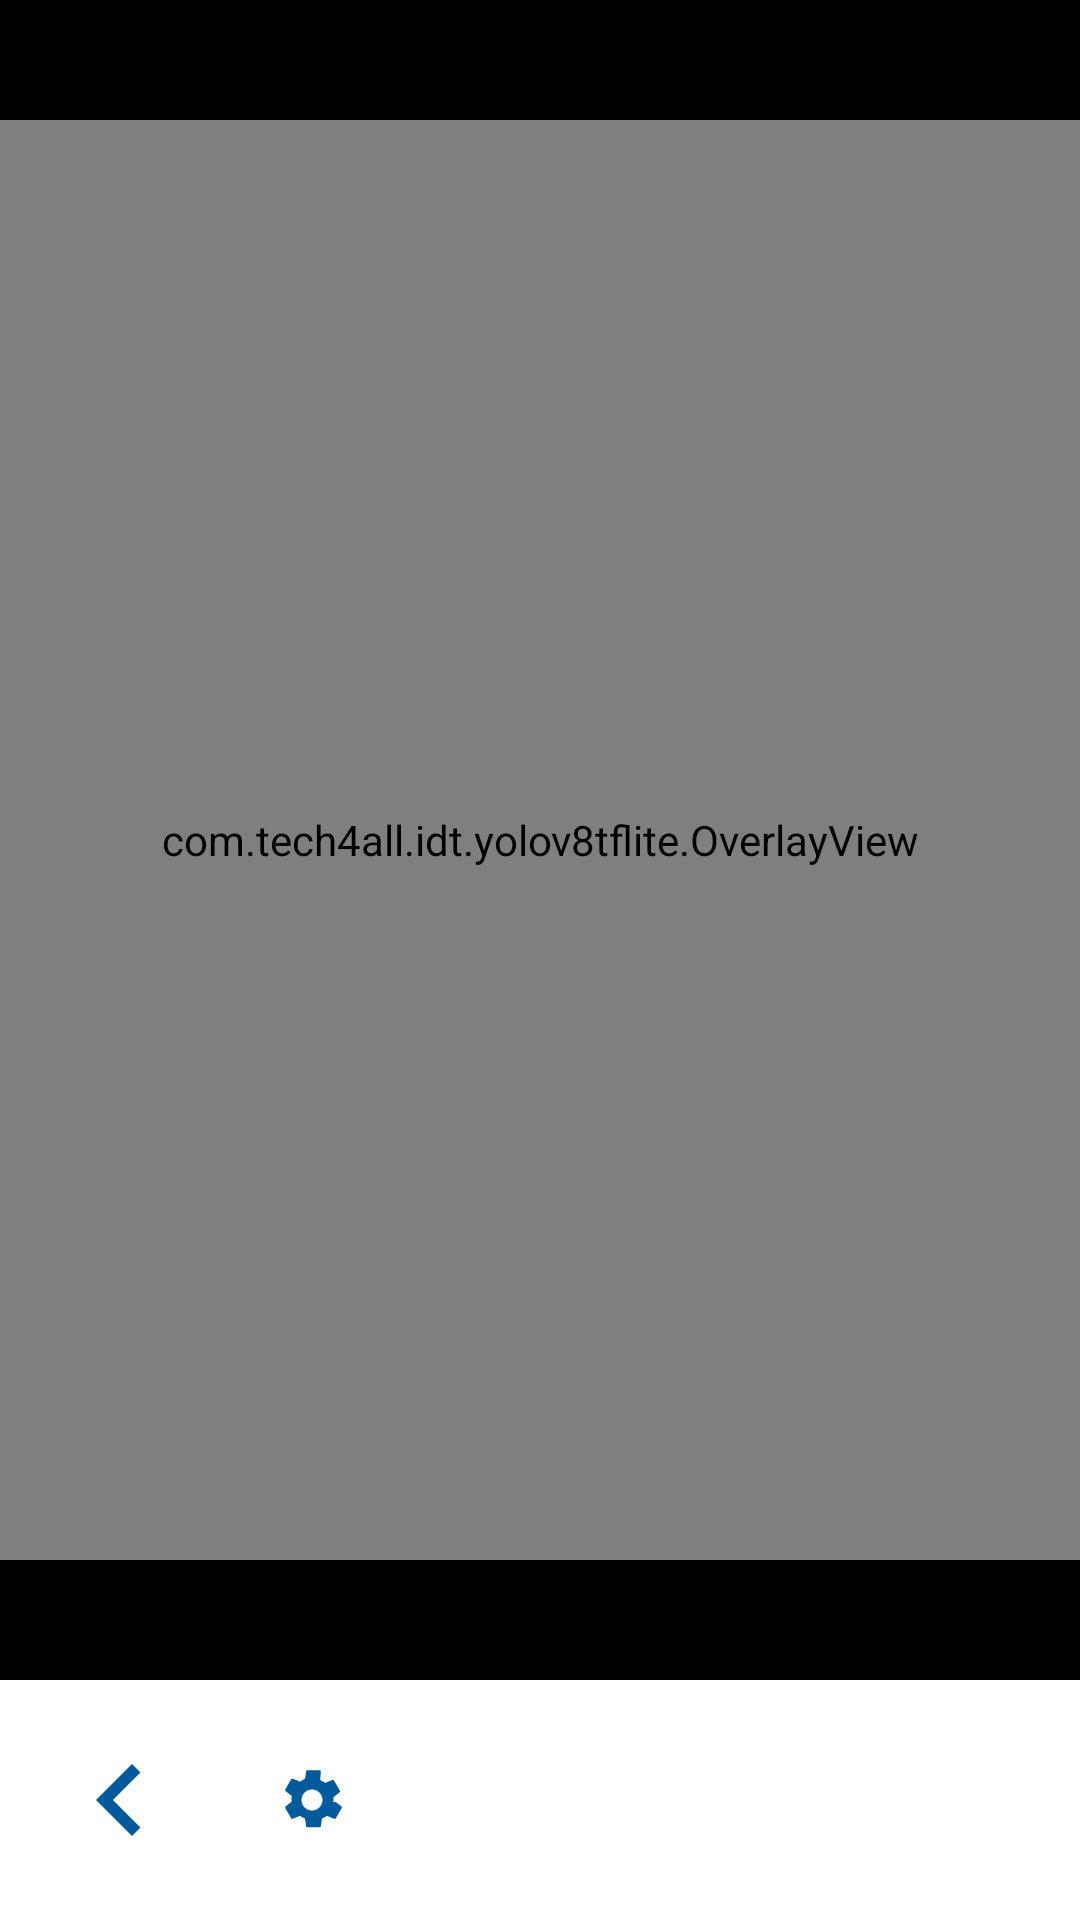

Icons on this 1080w x 1920h Android screen, each with the point to tap as [x,y]:
Back: [118,1800]
